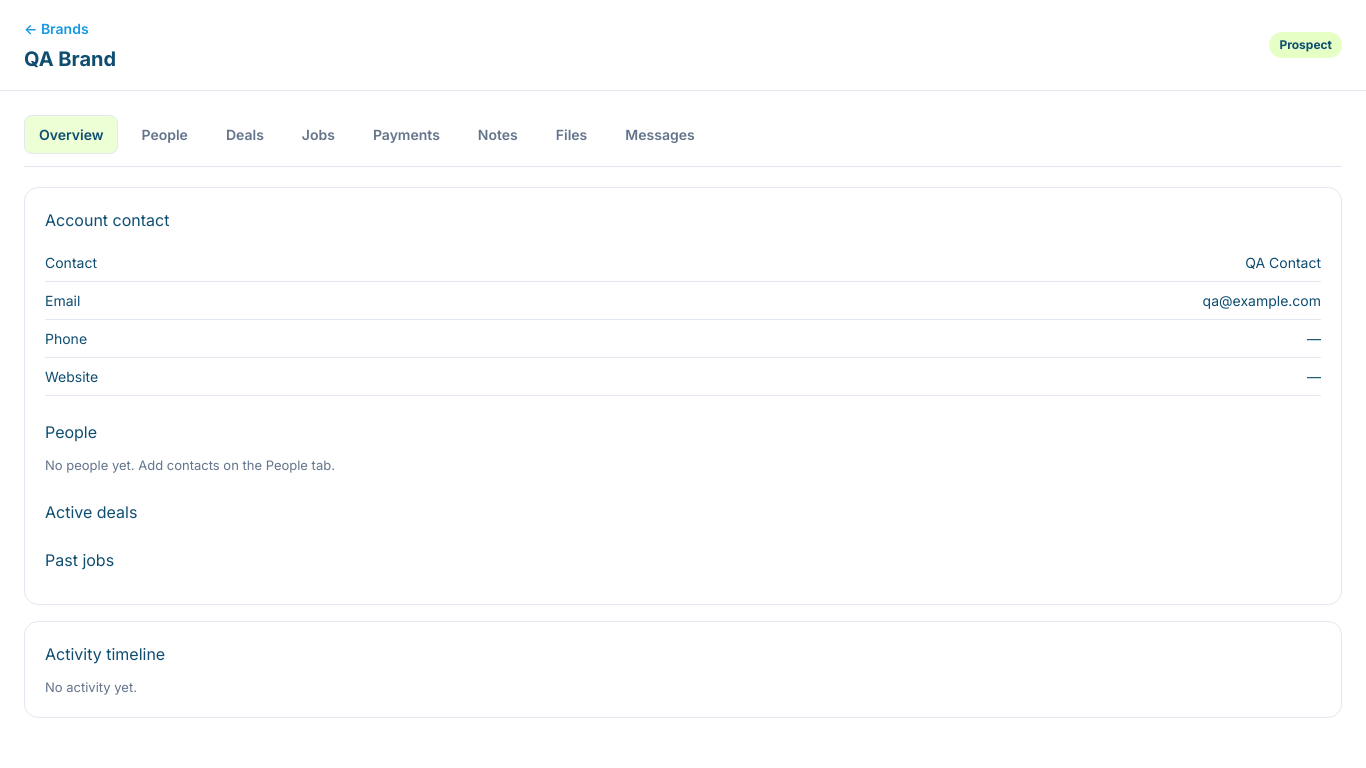
Test: BrandDetailContent empty related tabs › shows useful empty states for deals, jobs, and payments
Click the button "Deals": click(245, 134) [211,115,279,154]
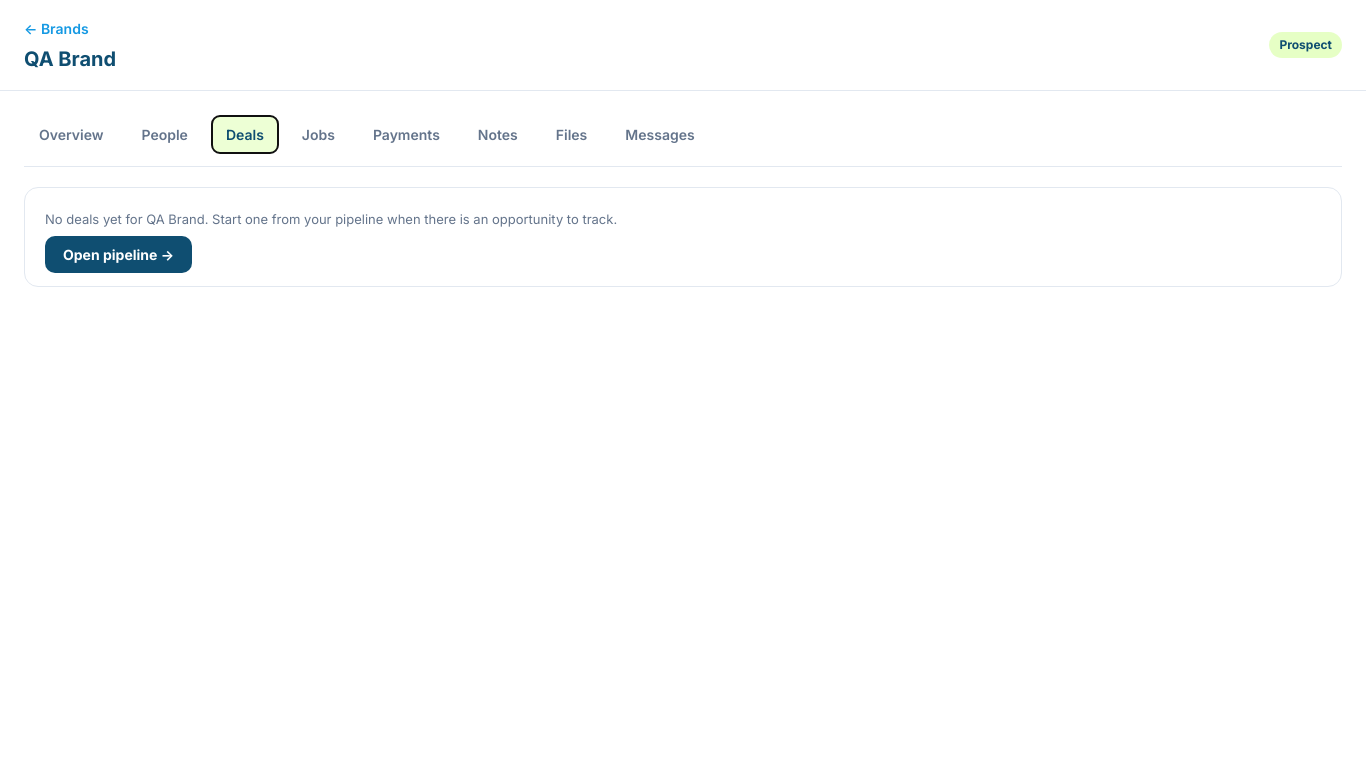
Expected: the text "No deals yet for QA Brand" is shown, [45,211,617,227]
Click the button "Jobs": click(318, 134) [287,115,350,154]
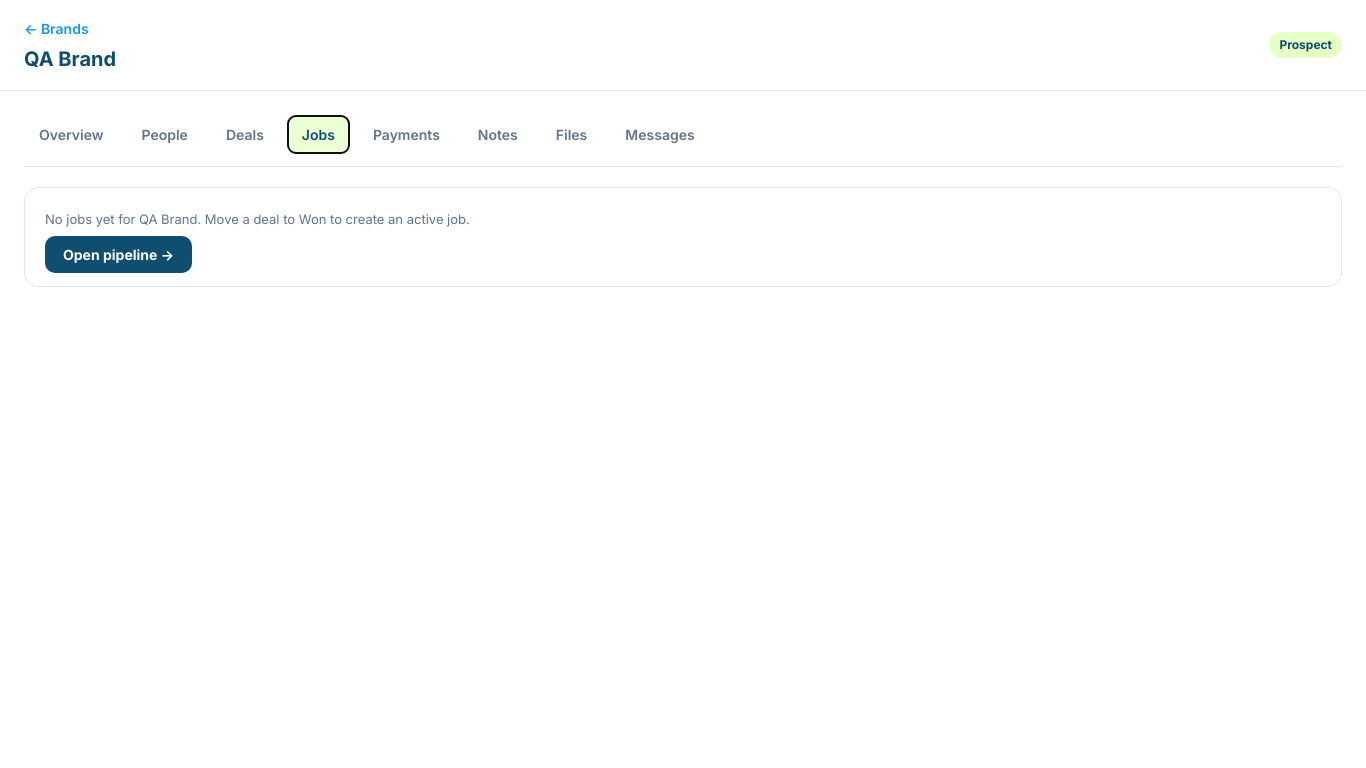
Expected: the text "No jobs yet for QA Brand" is shown, [45,211,470,227]
Click the button "Payments": click(406, 134) [358,115,455,154]
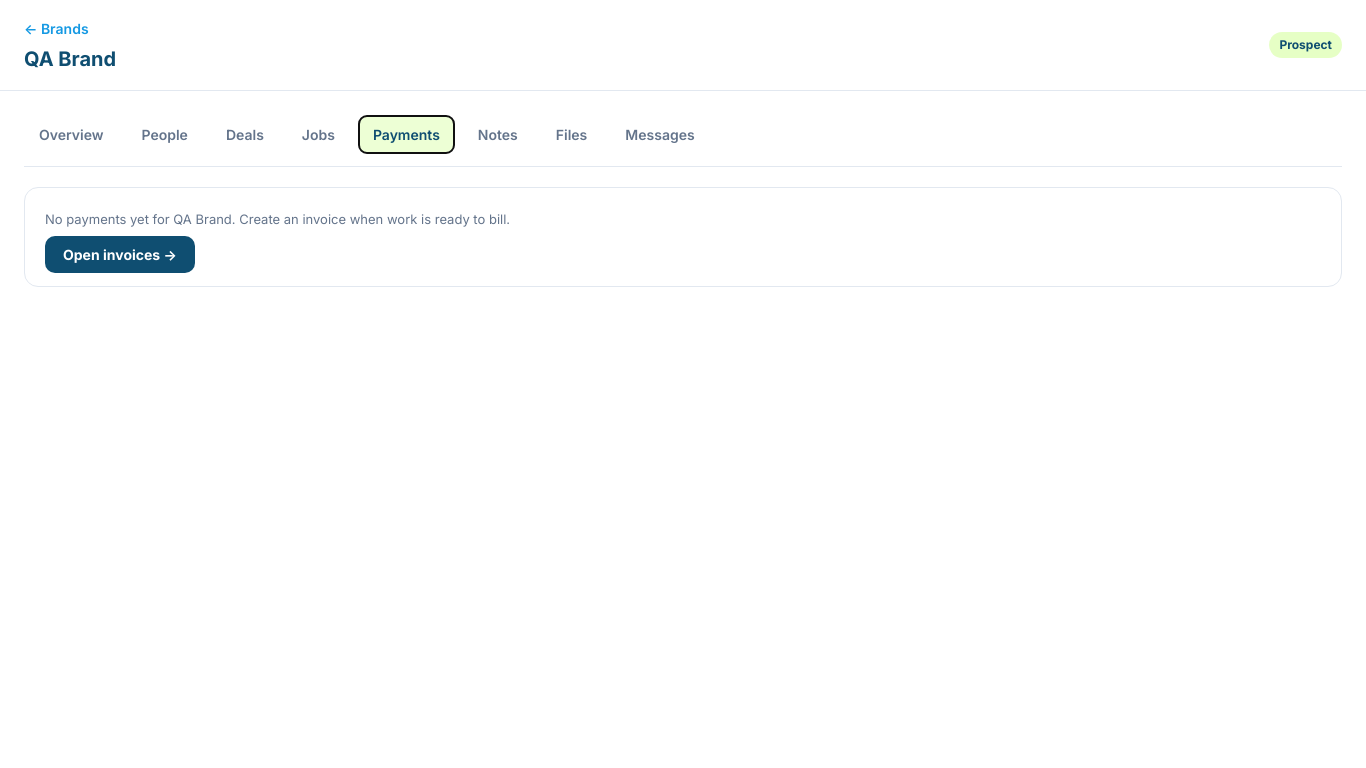
Expected: the text "No payments yet for QA Brand" is shown, [45,211,510,227]
